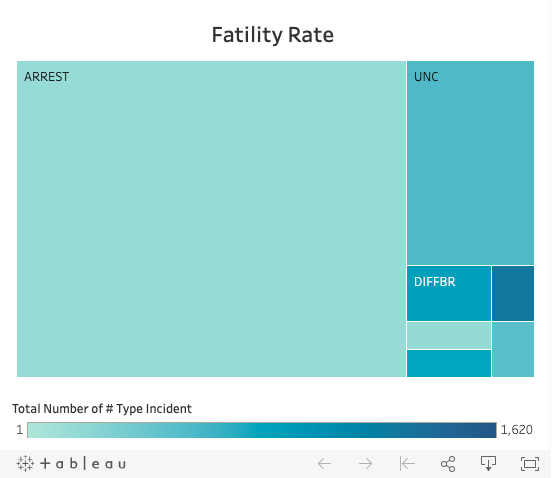

What the dashboard file says about the page in this screenshot:
{"tool":"tableau","page":{"name":"Dashboard 1","canvas":[600,690],"ordinal":0},"visuals":[{"type":"worksheet","title":"Sheet 1","mark":"Shape","rows":["travmin","respmin"],"cols":["MONTH","year"],"box":[4.8,6.9,590.4,611.5]},{"type":"legend","title":"Sheet 1","param":"[federated.1r386280mhq0gq1dylxgv10yi3o3].[none:sevlev:qk]","box":[4.8,618.4,590.4,64.7]}]}

Visuals, with their boxes in screenshot pixels (x1, y1, x2, y2):
"Sheet 1" worksheet (Shape marks): <bbox>16, 33, 405, 436</bbox>
"Sheet 1" legend: <bbox>16, 436, 405, 477</bbox>
